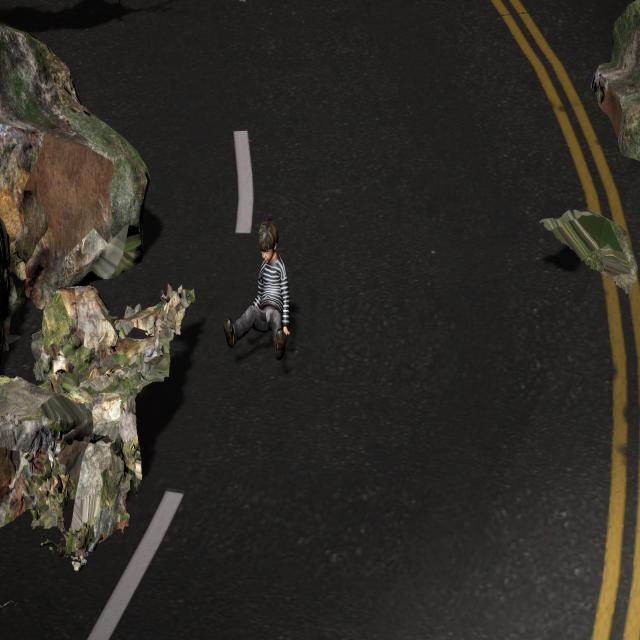Human: (218, 217, 299, 364)
